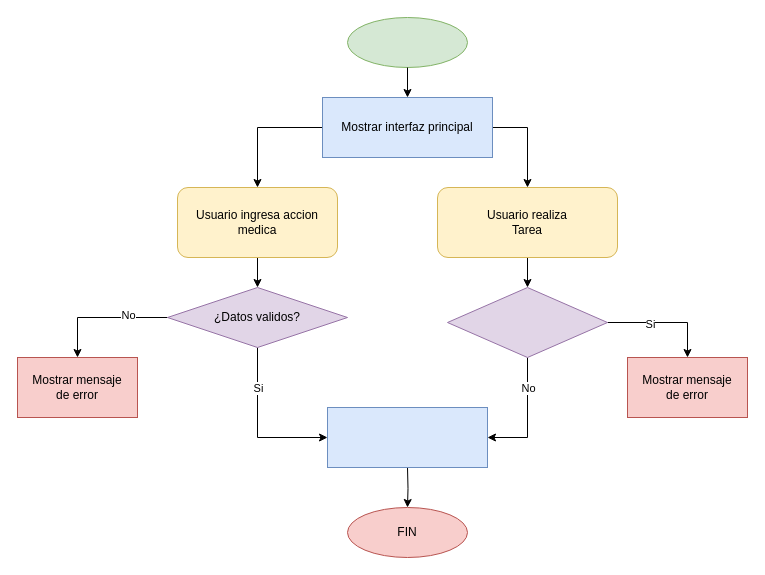
Some shapes in this 765 by 575 pixel diagram are drawn without their labels. The shapes that lost their labels are listed below. From the top down, each one's centre as x and y in pixels, then its label:
pixel 407 42: INICIO
pixel 527 322: ¿Stack vacio?
pixel 407 437: Actualizar historial, ultima accion y cantidad de acciones
